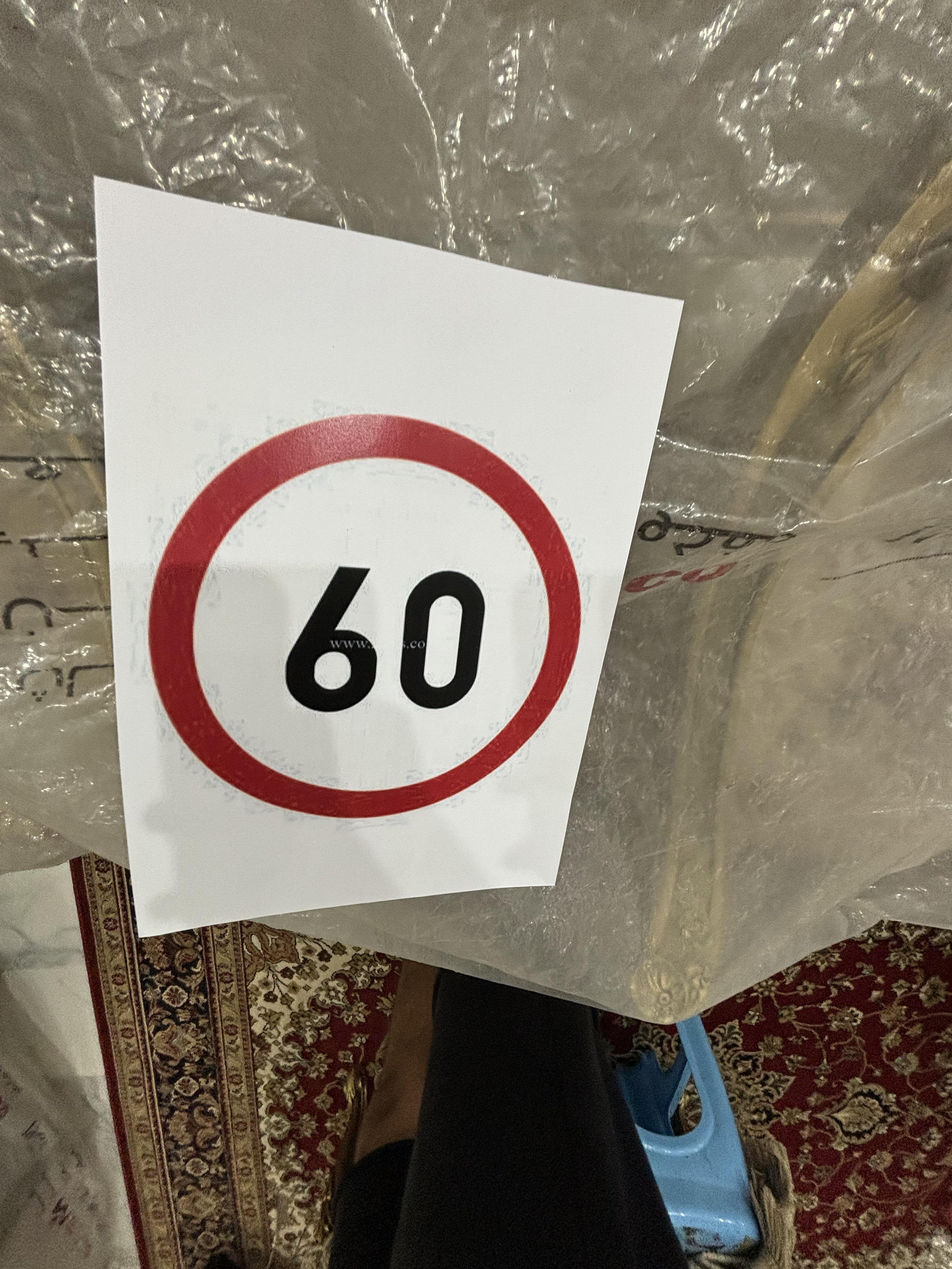60-Speed: (145, 403, 591, 840)
